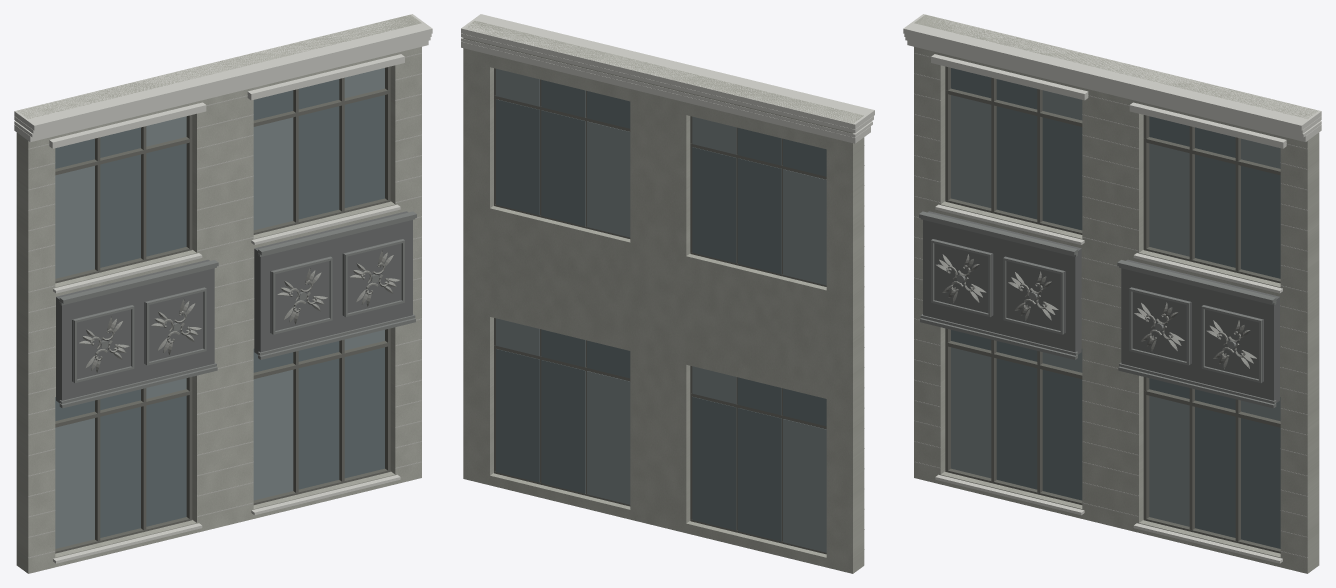
File: sichuan-330-relief-spandrel-far.glb
3 renders of one model, left to right at view 1: azimuth 30°, elevation 25°; view 2: azimuth 150°, elevation 25°; view 3: azimuth 330°, elevation 25°, orthographic.
Parts seen in each view (by area): view 1: 四川中路330号深色浮饰窗间板与通高窗列; view 2: 四川中路330号深色浮饰窗间板与通高窗列; view 3: 四川中路330号深色浮饰窗间板与通高窗列.
Boxes of the visible parts, x1=… form: 四川中路330号深色浮饰窗间板与通高窗列: x1=14, y1=14, x2=432, y2=573; 四川中路330号深色浮饰窗间板与通高窗列: x1=461, y1=14, x2=874, y2=573; 四川中路330号深色浮饰窗间板与通高窗列: x1=903, y1=14, x2=1321, y2=573.
Bounding box in the file's own units: 5.06 × 5.52 × 0.6047.
Materials: 9 (1 with a texture image).
